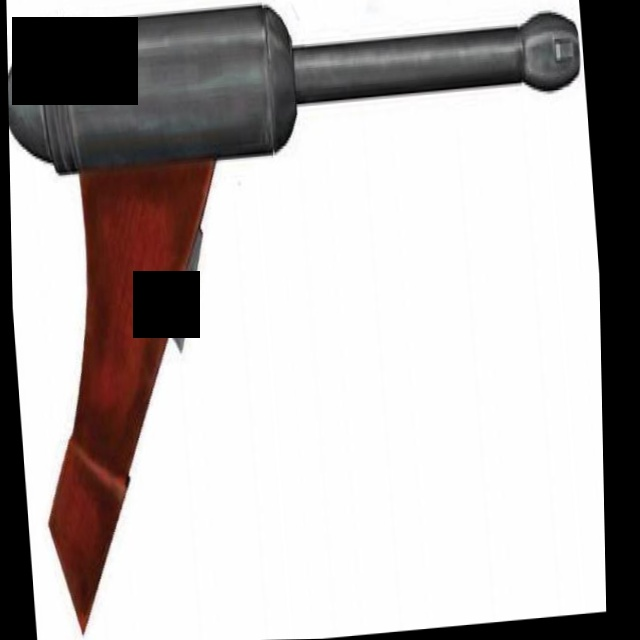gun: (5, 0, 606, 640)
